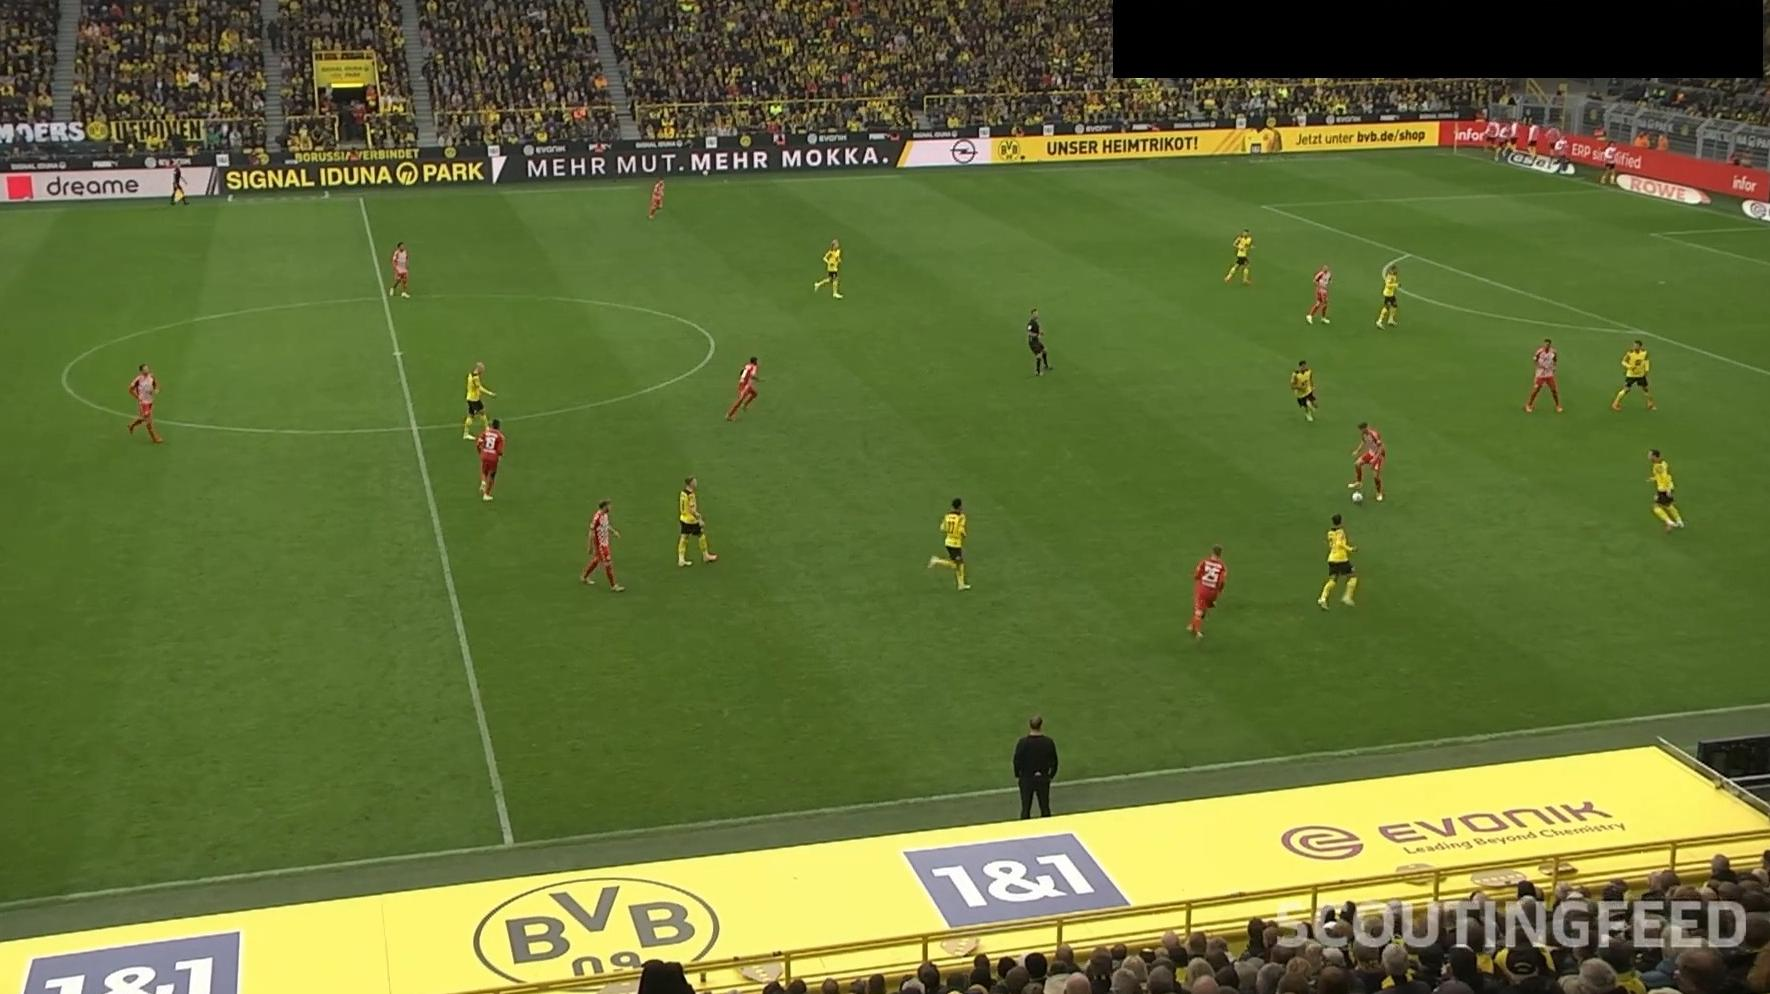ball: (1349, 488, 1365, 506)
